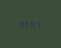eight: (18, 20, 23, 28)
nine: (30, 19, 35, 27)
one: (24, 20, 29, 28)
three: (36, 19, 41, 27)
